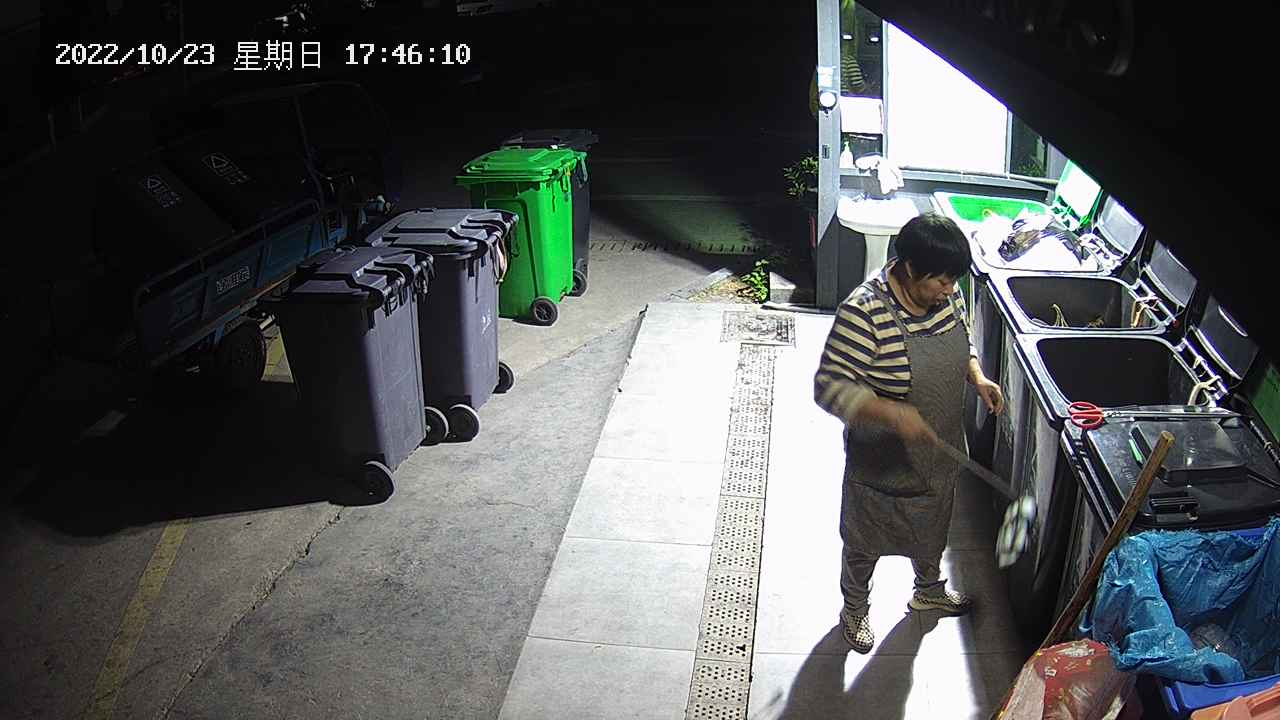person: (810, 210, 1006, 654)
suliaozhipin: (992, 497, 1039, 570)
